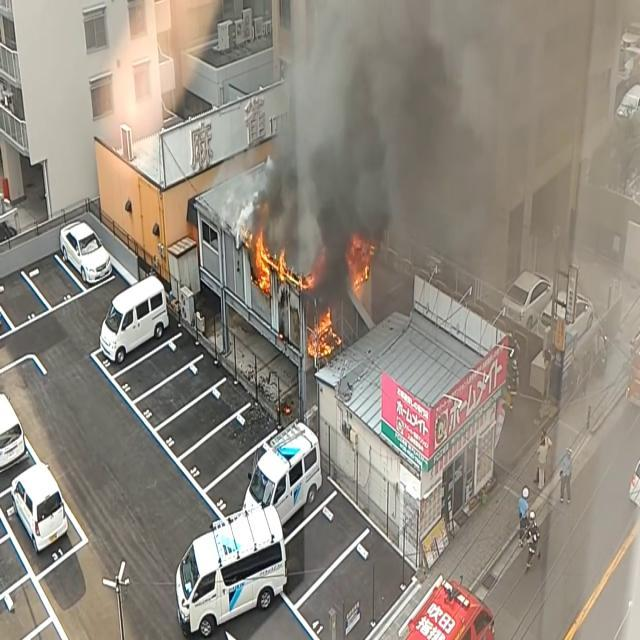Fire: (247, 227, 315, 296), (344, 227, 380, 300), (308, 303, 340, 362)
Smoke: (253, 1, 622, 298)
